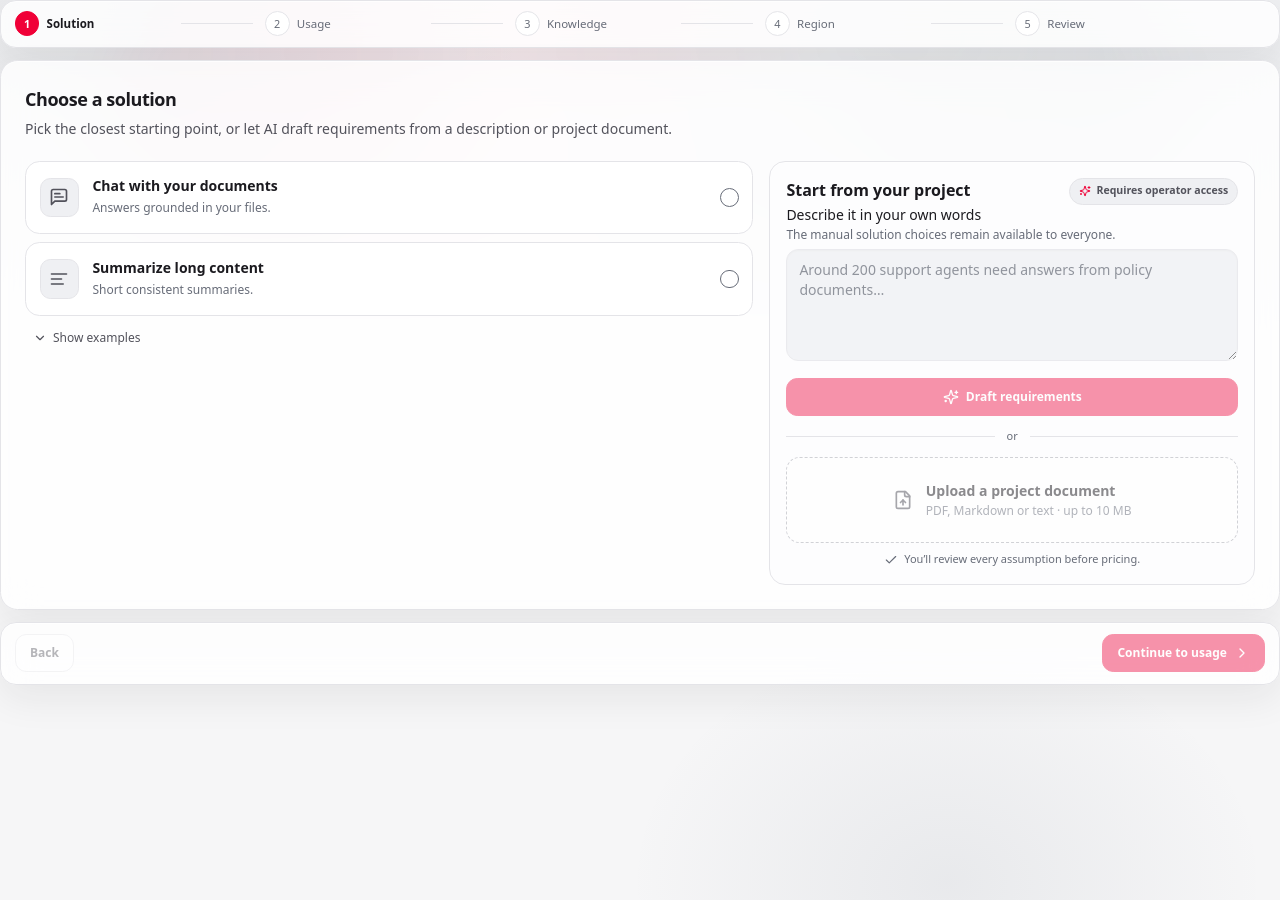
Test: wizard skips the knowledge step for patterns without a knowledge base
Click the radio button labelled "Summarize long content Short consistent summaries." at (59, 279), box [25, 242, 753, 316]
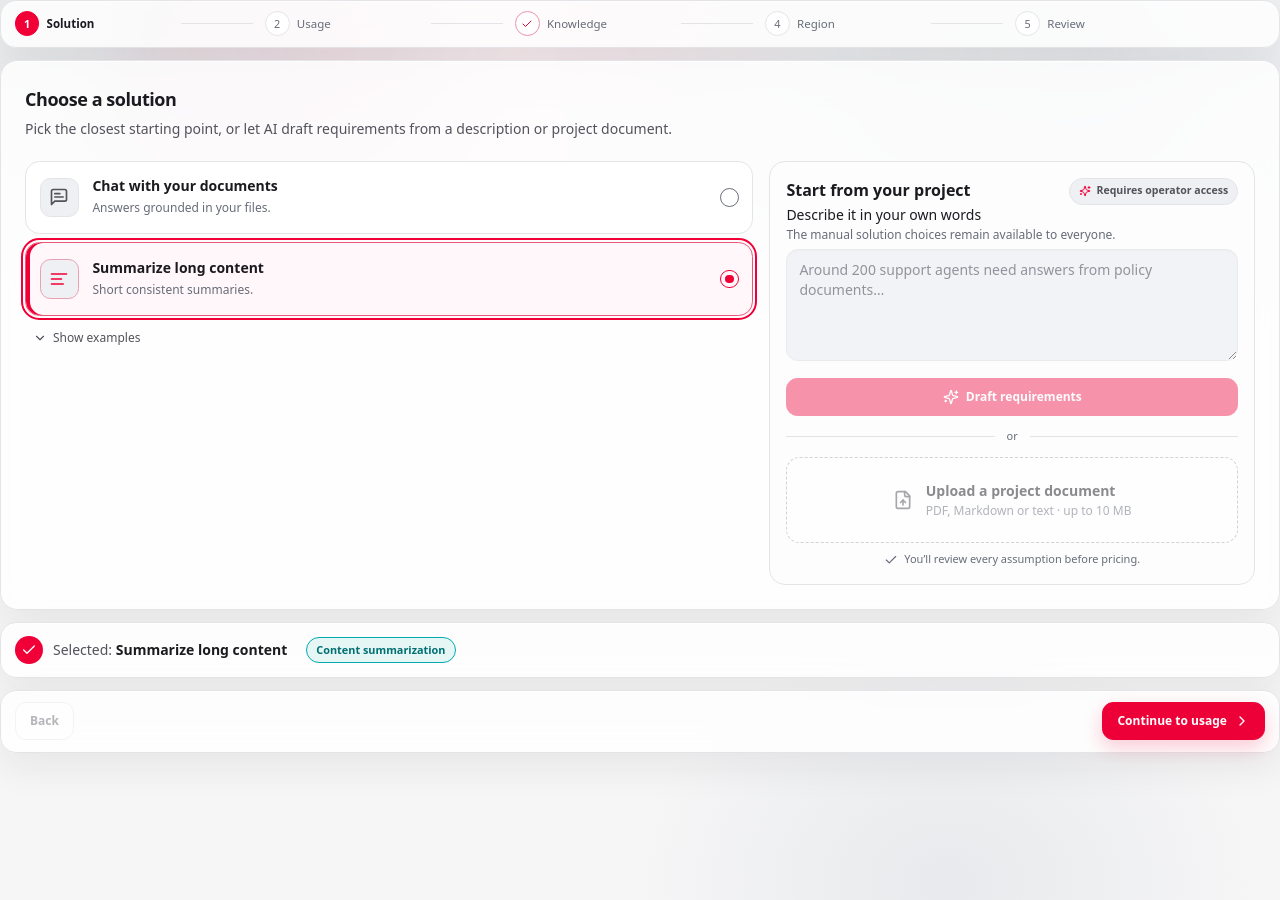
Click the button "Continue to usage" at (1184, 721), box [1102, 702, 1265, 740]
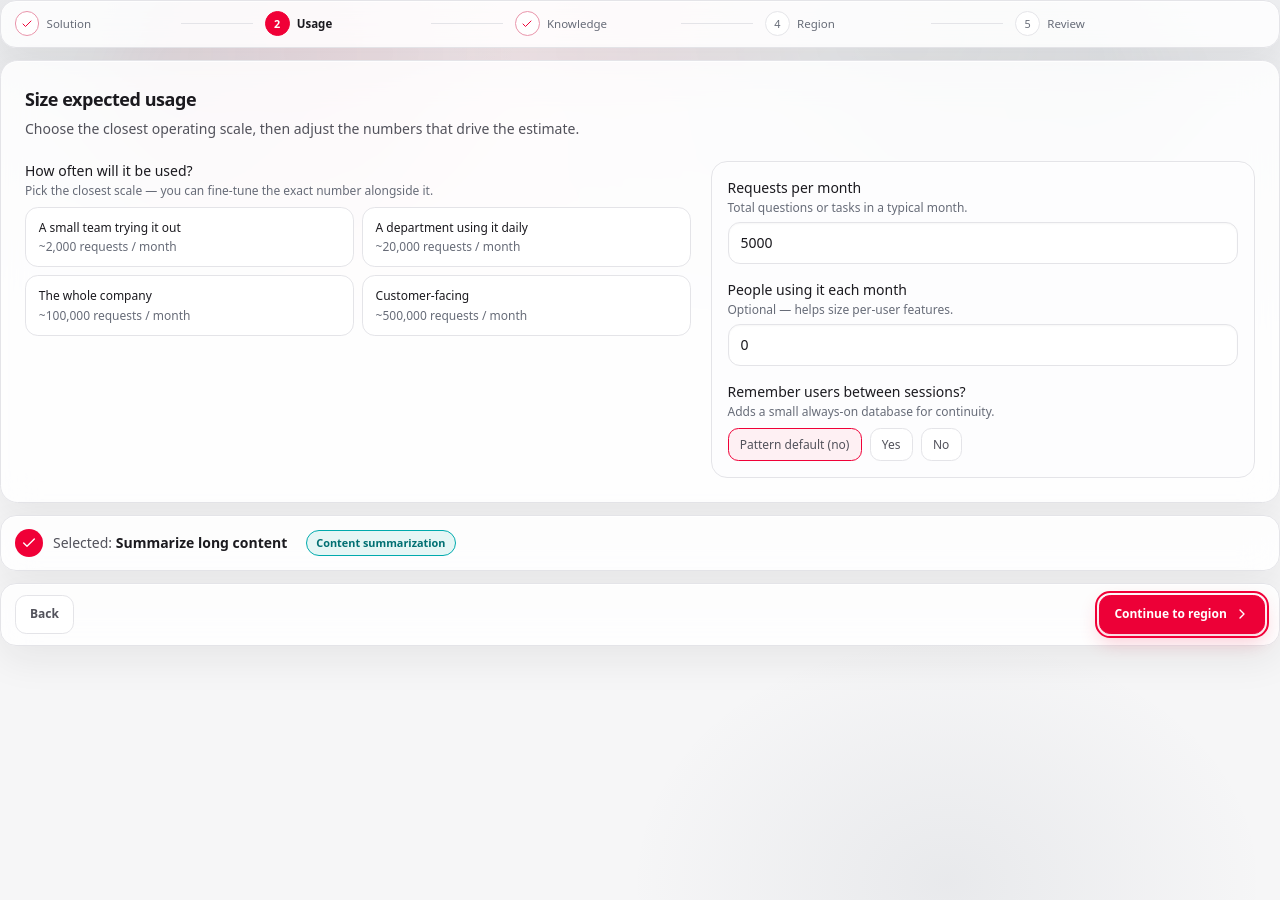
Click the button "Continue to region" at (1182, 614), box [1099, 595, 1265, 634]
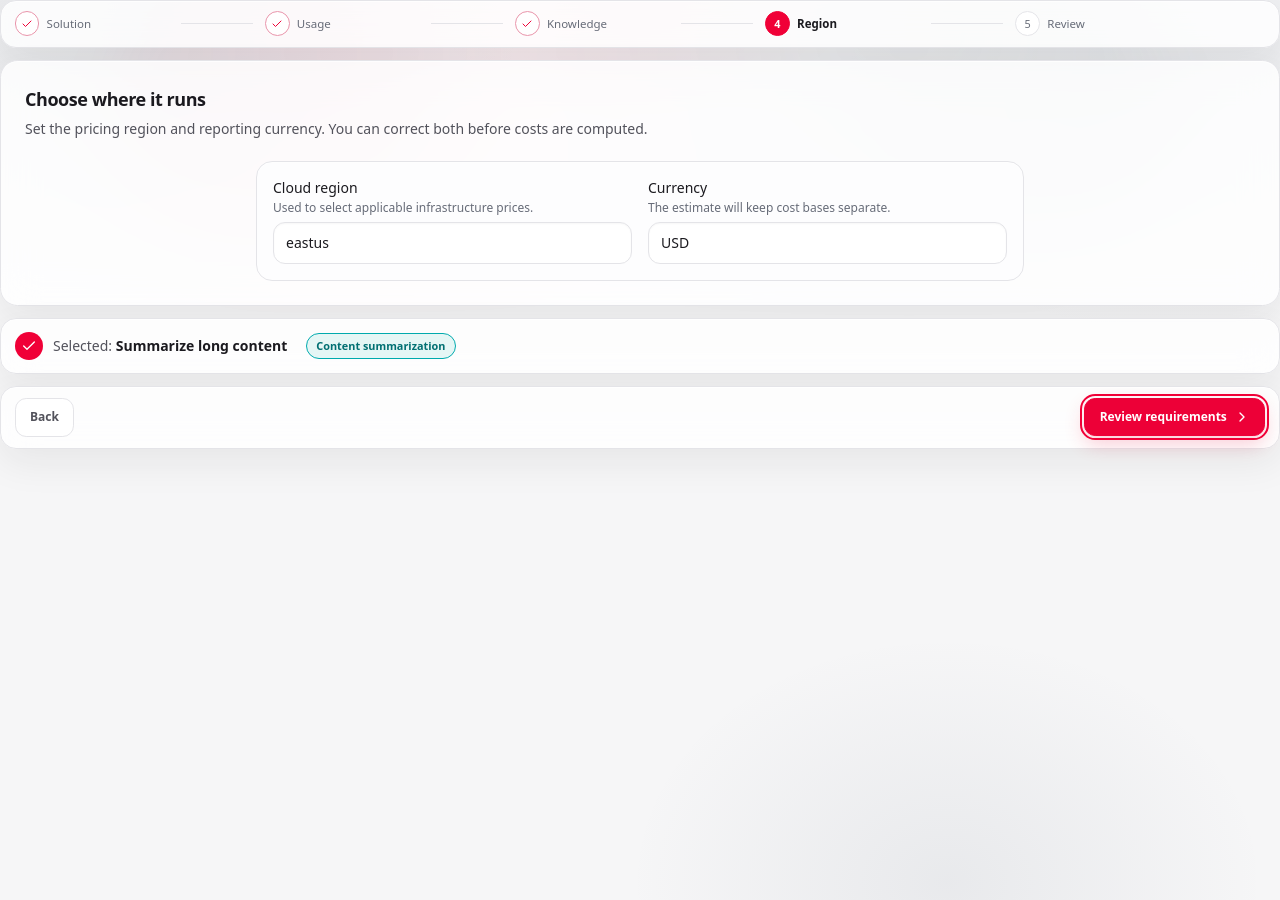
Now the button "Review requirements" is shown, box [1084, 398, 1266, 436]
